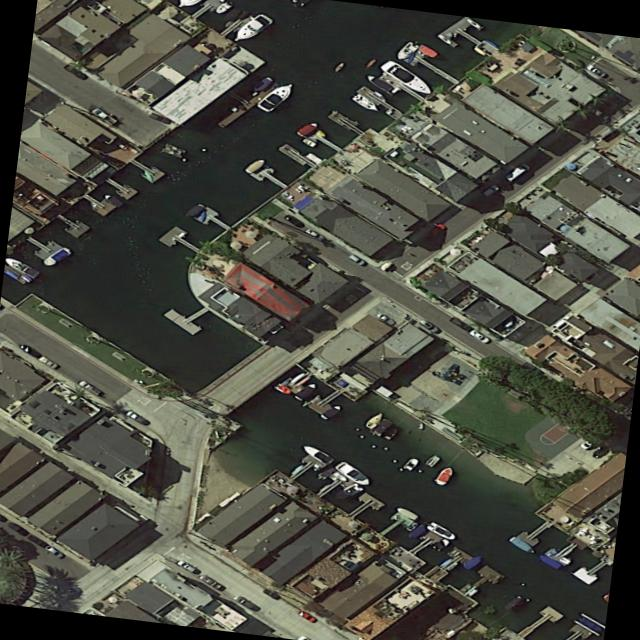large-vehicle: (502, 161, 532, 181), (89, 106, 118, 124)
ship: (378, 58, 435, 96), (229, 11, 274, 44), (255, 78, 299, 111), (333, 459, 375, 488), (297, 441, 334, 464), (5, 253, 40, 277), (424, 520, 457, 541), (41, 245, 73, 266), (332, 481, 363, 501), (350, 92, 381, 112), (507, 534, 536, 554), (363, 72, 392, 91), (393, 40, 419, 60), (432, 463, 455, 485), (292, 381, 318, 399), (535, 552, 561, 569), (294, 119, 319, 136), (461, 552, 485, 569), (318, 403, 343, 419), (363, 410, 385, 428), (251, 74, 274, 91), (372, 417, 393, 435), (183, 201, 205, 218), (243, 156, 266, 172), (578, 616, 602, 631), (394, 505, 418, 520), (405, 523, 427, 538), (101, 192, 124, 206), (213, 0, 233, 13), (423, 453, 441, 467), (401, 455, 419, 469), (171, 0, 198, 9), (382, 427, 398, 440), (331, 470, 348, 481), (300, 136, 317, 146), (332, 61, 345, 71), (416, 421, 424, 428)
small-vehicle: (16, 341, 43, 359), (233, 593, 259, 610), (76, 378, 102, 395), (61, 62, 87, 78), (197, 572, 223, 588), (447, 314, 472, 330), (425, 220, 449, 236), (25, 532, 48, 547), (478, 182, 501, 197), (584, 62, 607, 77), (417, 317, 439, 332), (43, 543, 65, 558), (124, 409, 147, 423), (374, 311, 396, 325), (6, 520, 28, 534), (468, 328, 490, 342), (175, 558, 197, 572), (148, 110, 171, 123), (284, 212, 305, 226), (591, 444, 612, 458), (296, 609, 318, 622), (578, 435, 598, 449), (38, 354, 58, 368), (260, 586, 281, 599), (346, 251, 365, 264), (304, 227, 324, 239), (0, 512, 8, 521)
